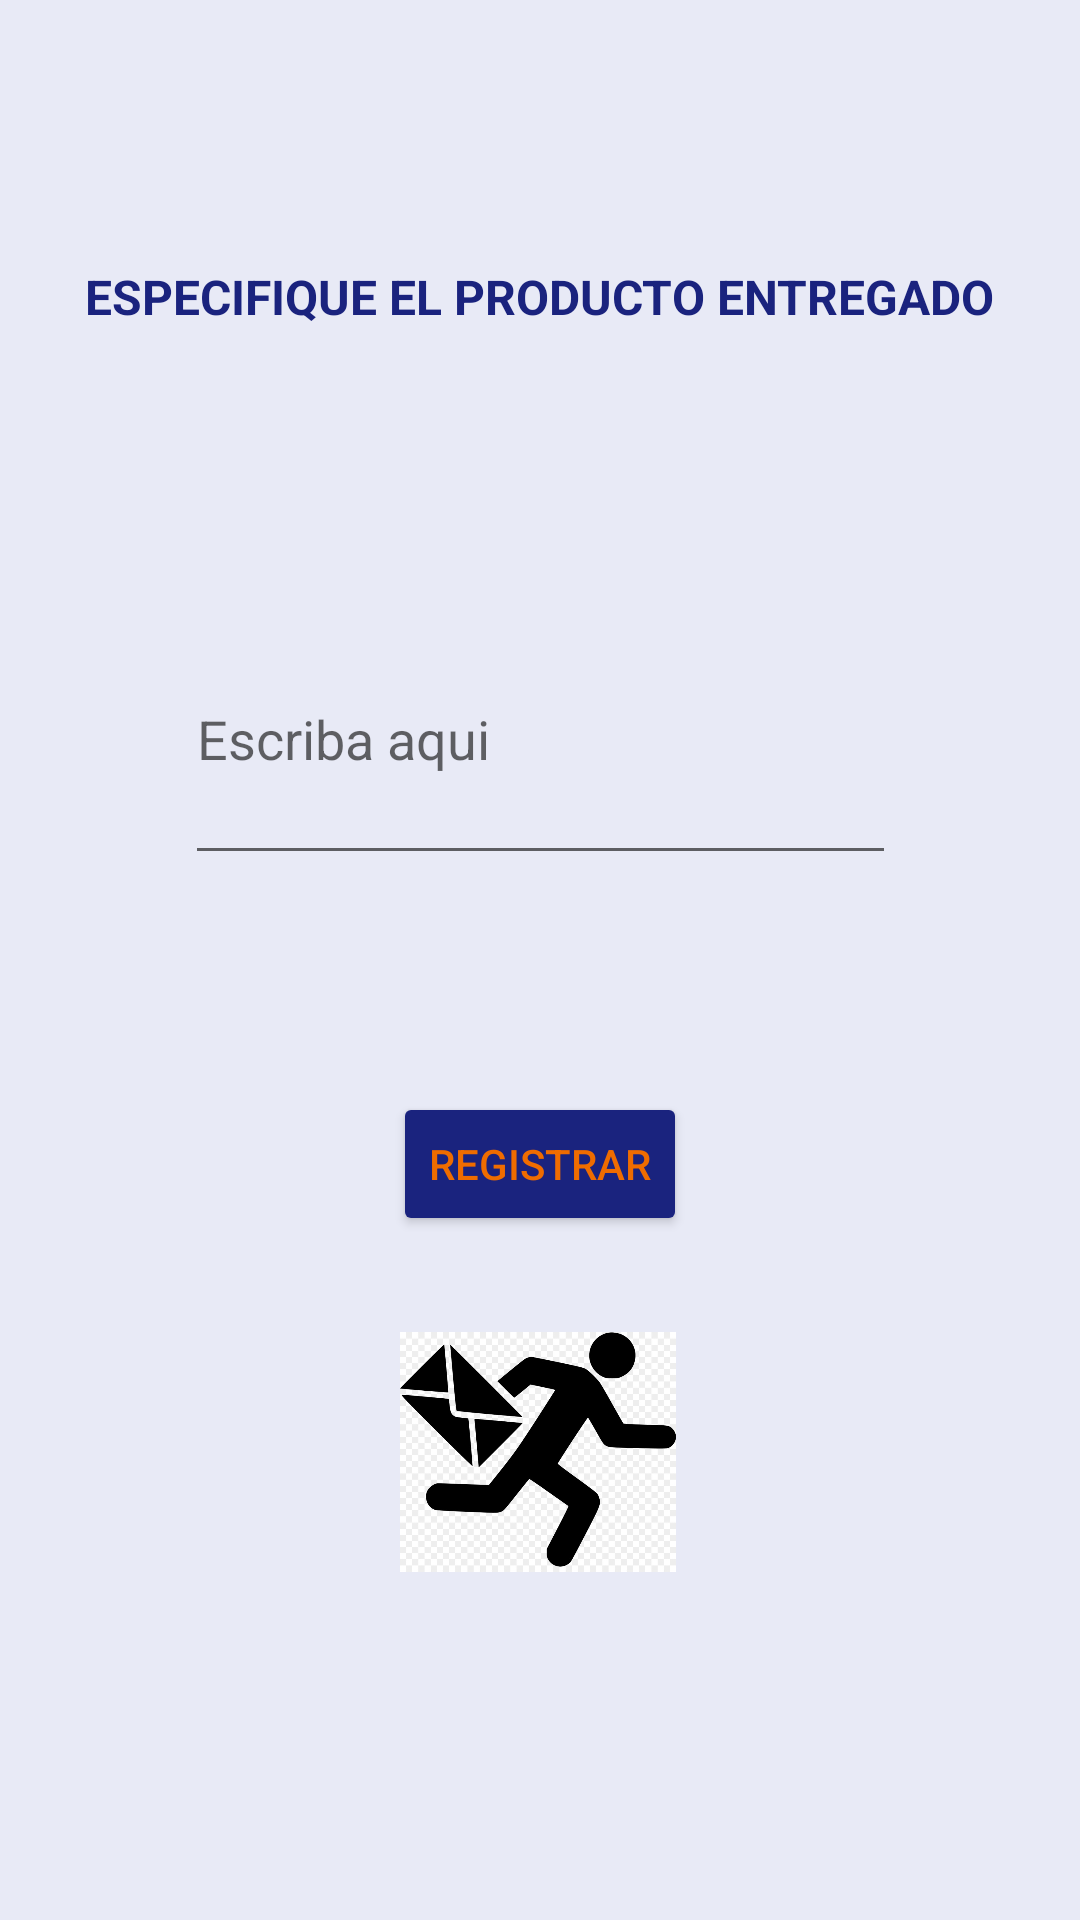

Named icons in this screenshot (1080×1920) and their bounding boxes, (x1, y1, x2, y2):
enviando: (400, 1332, 676, 1572)
